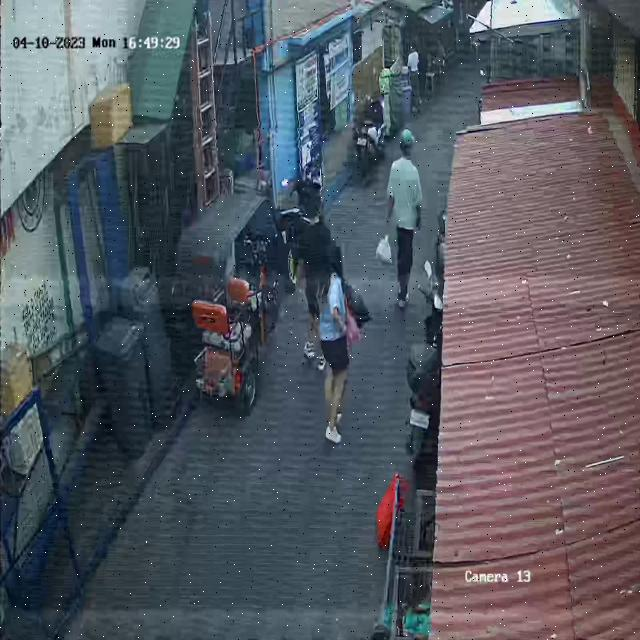human: (316, 234, 368, 445), (376, 126, 423, 305)
trash: (338, 269, 374, 348), (374, 462, 406, 550), (374, 224, 394, 274)
